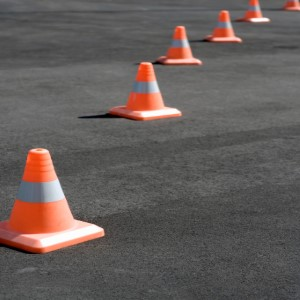traffic cone: (1, 147, 105, 254), (109, 62, 182, 120), (156, 25, 202, 65), (206, 9, 243, 42), (240, 1, 271, 22)
